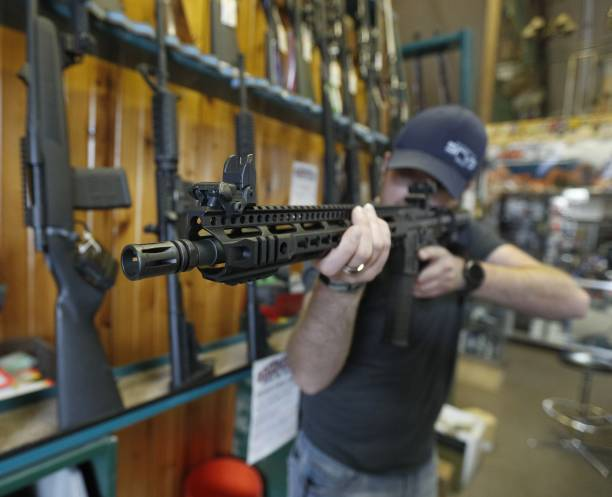rifle: (120, 149, 471, 328), (15, 6, 138, 432)
